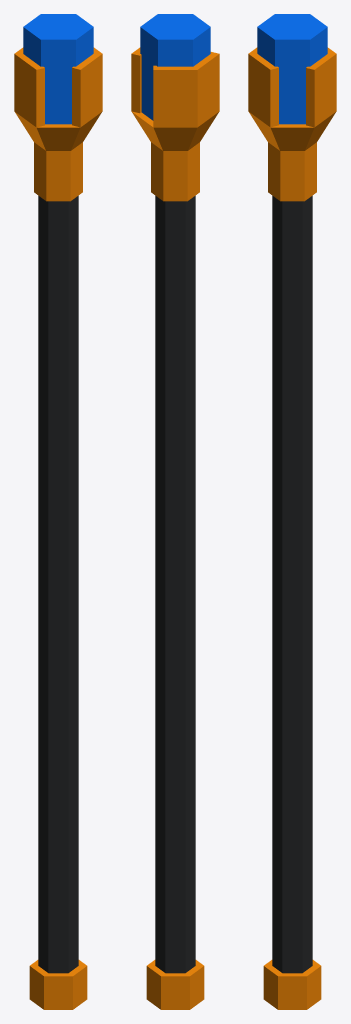
The model's file is KingBaston.fbx.
3 renders of one model, left to right at view 1: azimuth 90°, elevation 25°; view 2: azimuth 210°, elevation 25°; view 3: azimuth 270°, elevation 25°, orthographic.
Parts seen in each view (by area): view 1: KingBaston; view 2: KingBaston; view 3: KingBaston.
Boxes of the visible parts, box(x1,y1,x2,y2) form: KingBaston: box(14, 14, 102, 1009); KingBaston: box(131, 14, 219, 1009); KingBaston: box(248, 14, 336, 1009).
Bounding box in the file's own units: 0.0811 × 1.14 × 0.0936.
